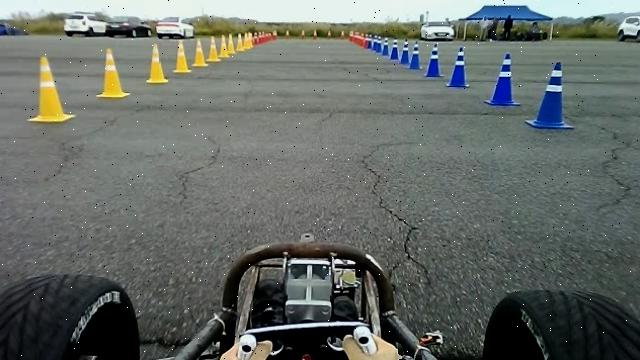blue cone: (526, 61, 575, 128), (484, 53, 522, 106), (446, 45, 470, 87), (424, 42, 445, 77), (407, 40, 422, 70), (398, 38, 411, 65), (390, 36, 400, 60)
yellow cone: (27, 54, 76, 122), (96, 47, 131, 98), (147, 42, 168, 83), (174, 39, 192, 73), (192, 37, 208, 67), (206, 35, 222, 62), (219, 34, 230, 58), (236, 32, 245, 52), (228, 33, 236, 54)
